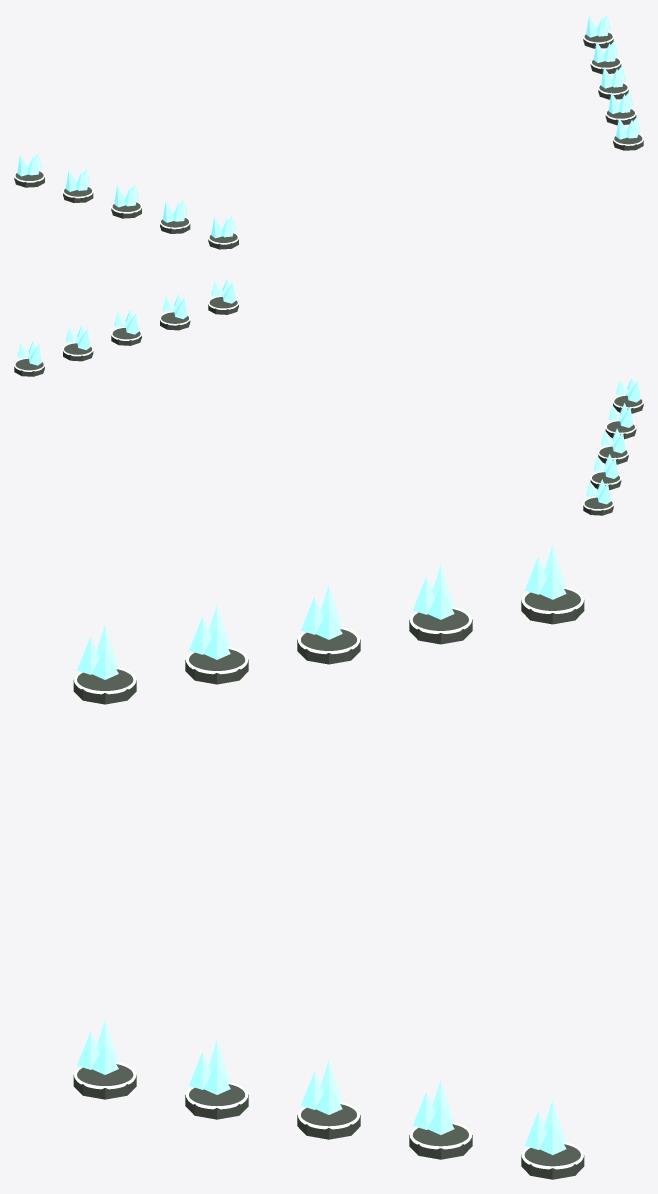
File: forgotten_sanctuary_infinite.glb
3 views of the same model, one above another, from view 1: azimuth 30°, elevation 25°; view 2: azimuth 150°, elevation 25°; view 3: azimuth 270°, elevation 25° (orthographic). The views are drawn at different scales.
Parts seen in each view (by area): view 1: Energy; view 2: Energy; view 3: Energy.
Boxes of the visible parts, x1,y1,x2,y2 form: Energy: (14,15,643,249); Energy: (14,278,643,515); Energy: (73,544,584,1179).
Bounding box in the file's own units: 20.92 × 0.9672 × 7.76.
